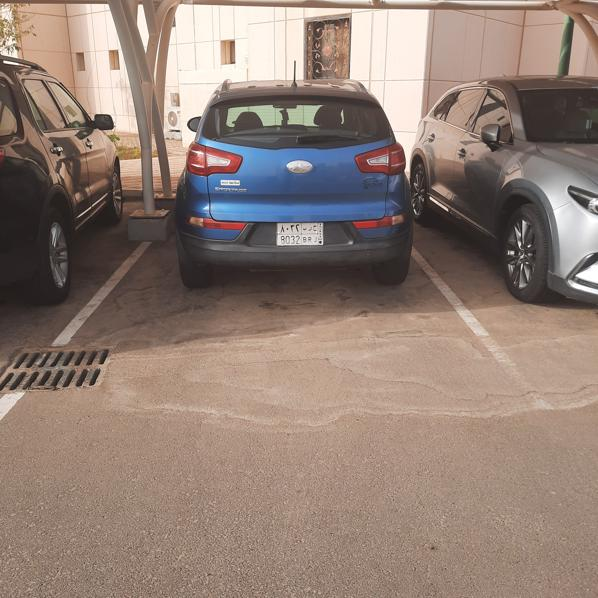numberplate: (277, 223, 323, 245)
